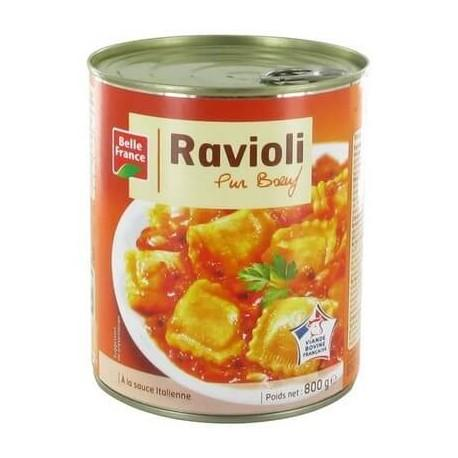metal: (88, 36, 369, 422)
